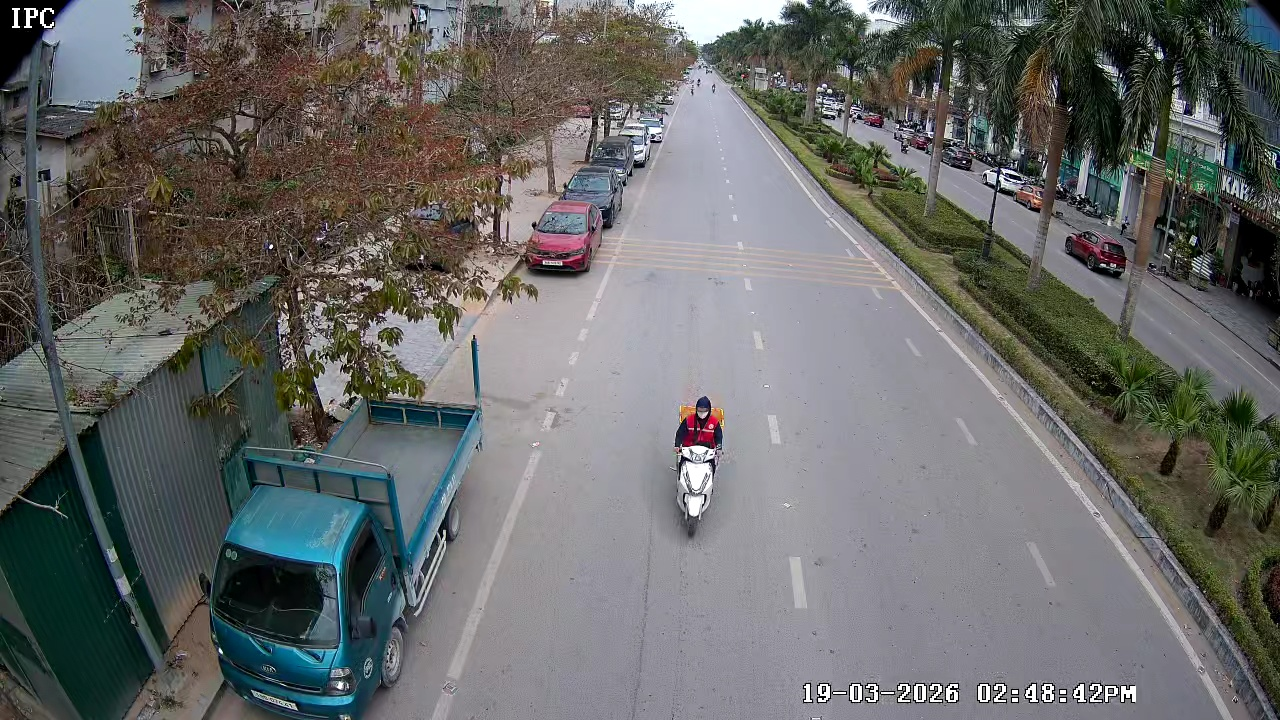car: (523, 199, 602, 277), (566, 161, 618, 232)
motorbike: (667, 396, 728, 538)
